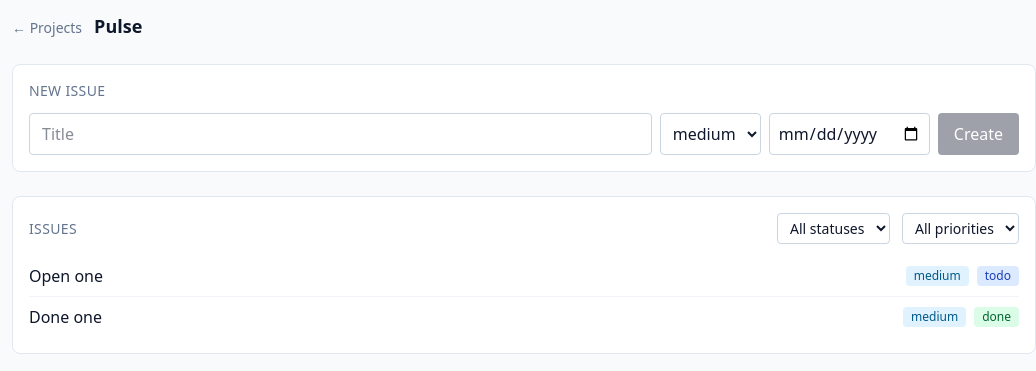
Test: status filter narrows the list via the query parameter
Check: the text "Open one" is shown, box [29,265,103,287]
Check: the text "Done one" is shown, box [29,306,102,328]
Select "done" in the dropdown named "Filter by status": (834, 228) [777,213,890,244]
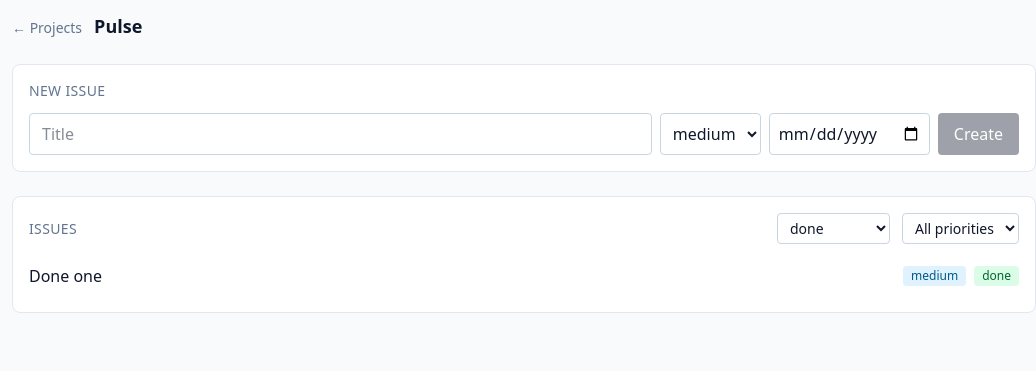
Check: the text "Done one" is shown, box [29,265,102,287]
Check: the button "Open one" is gone
